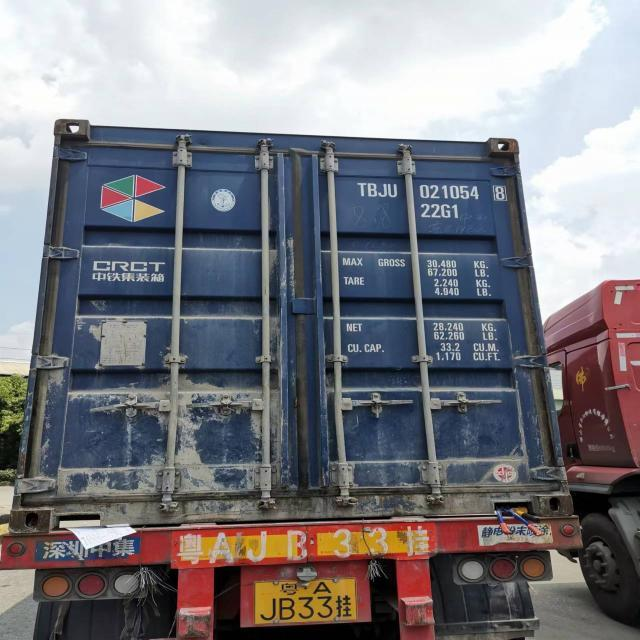ISO: (422, 202, 458, 220)
container_number: (362, 182, 503, 202)
